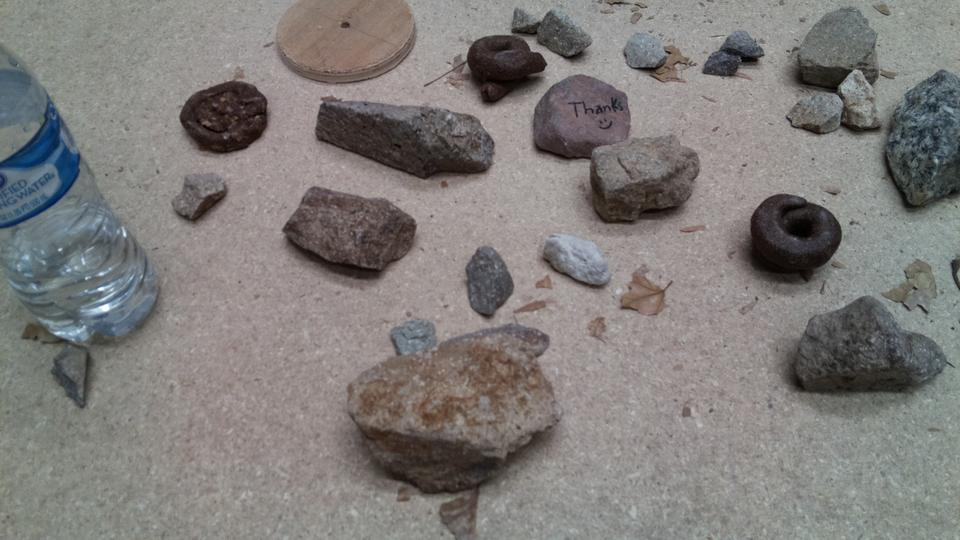poop: (748, 190, 846, 282), (178, 78, 271, 158), (466, 32, 551, 105)
